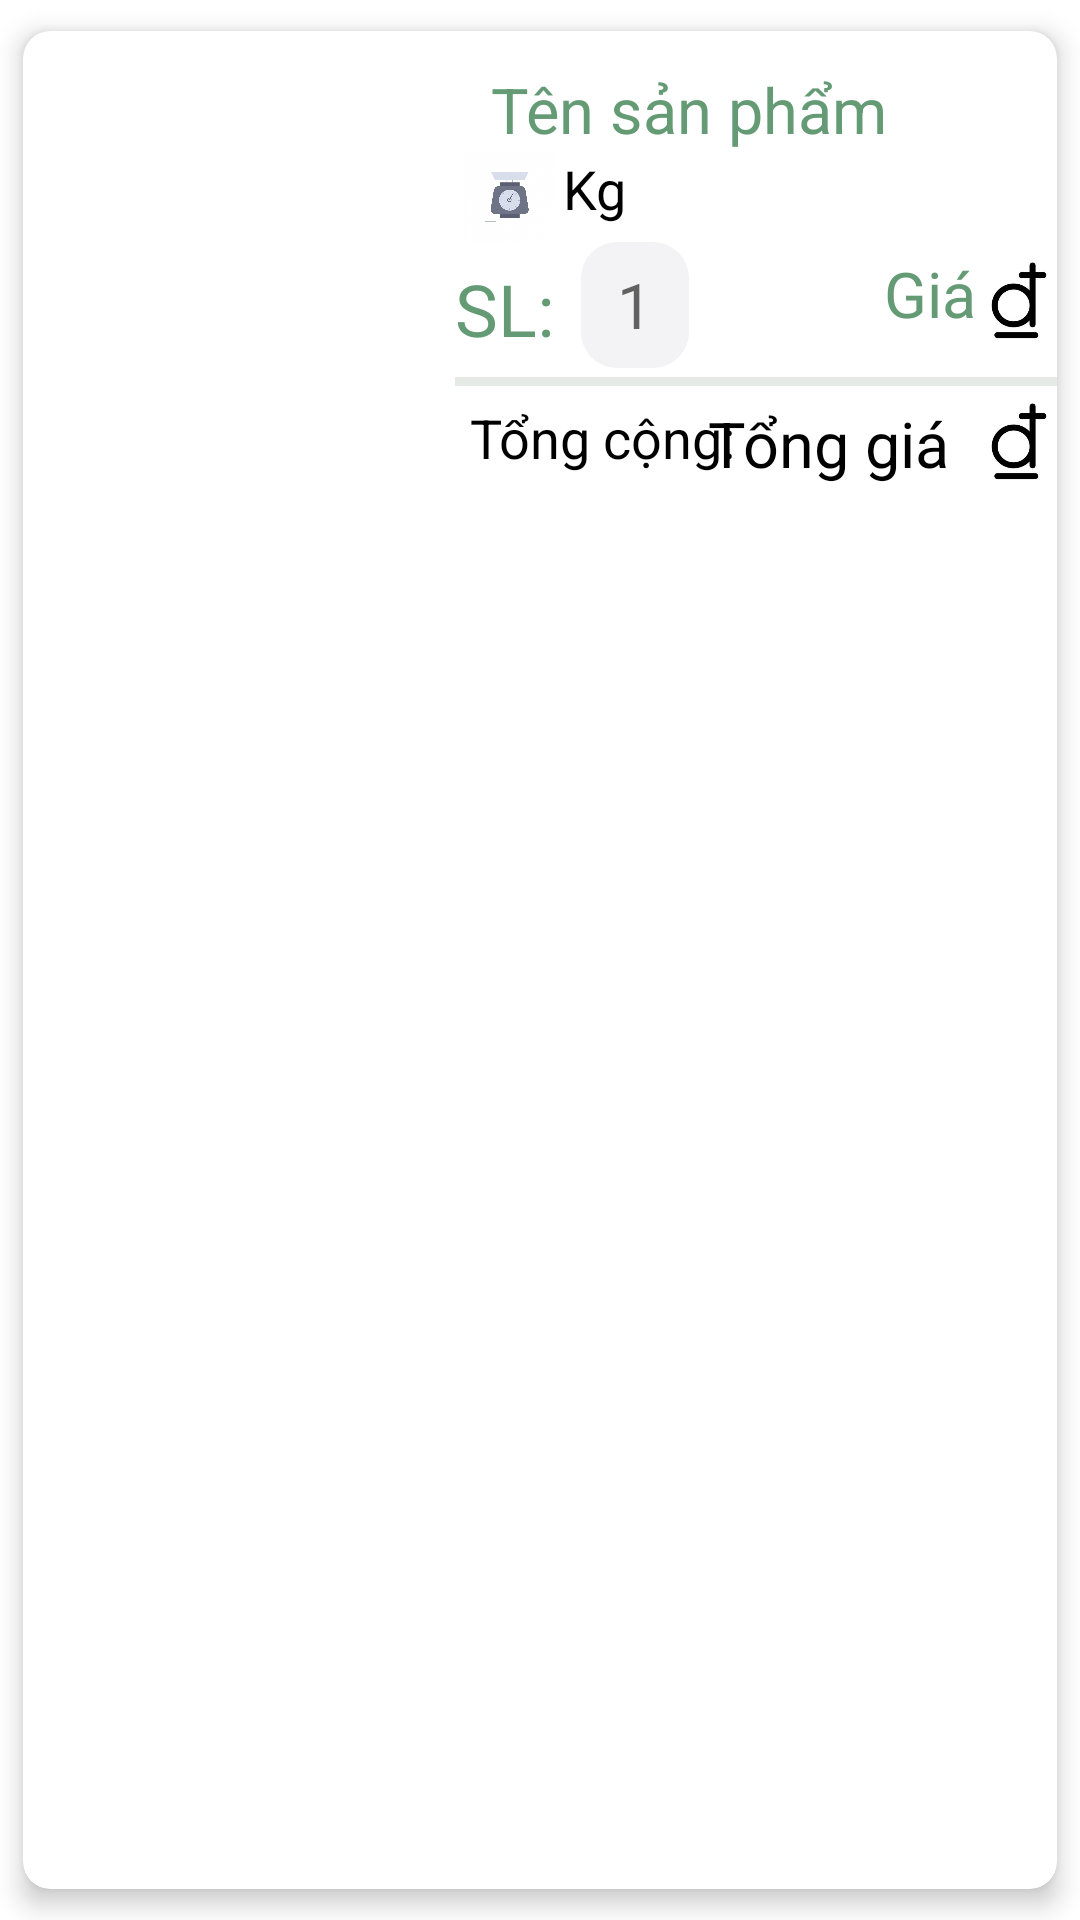

Point at icon controls on the screen. Image size 1080w x 1920h, points as [x,y].
weight: [507,197]
